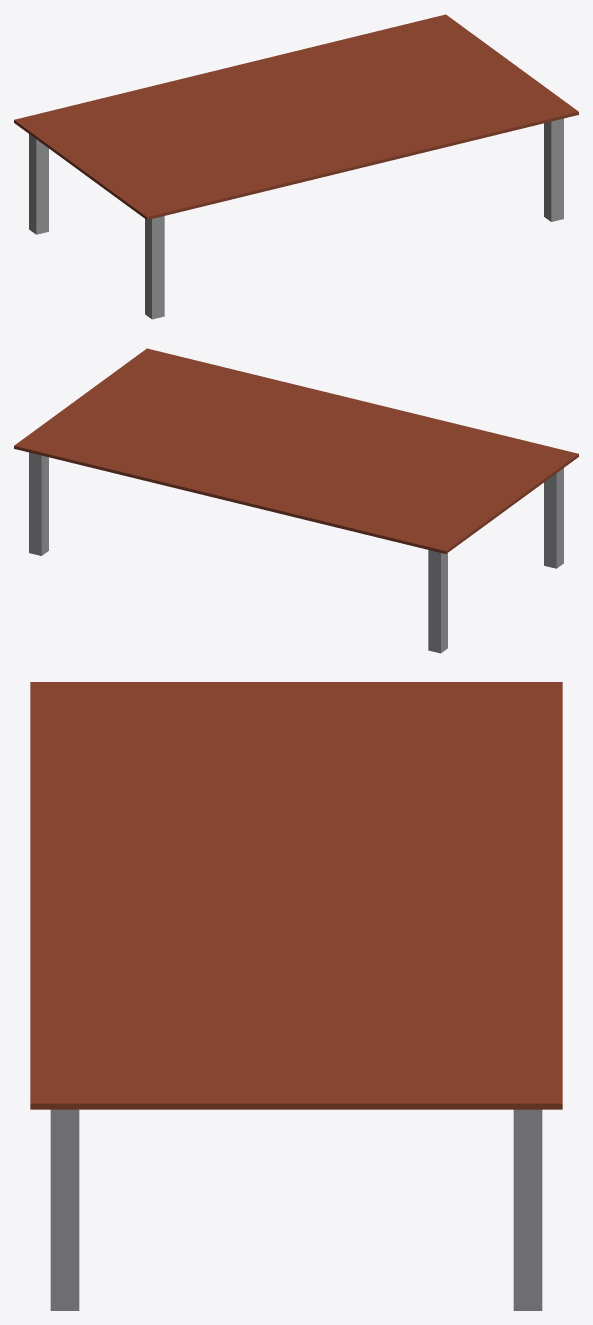
Rendered from room.gltf.
The picture shows the model from 3 angles, top to bottom: view 1: azimuth 30°, elevation 25°; view 2: azimuth 150°, elevation 25°; view 3: azimuth 270°, elevation 25°; orthographic projection. The views are drawn at different scales.
Parts seen in each view (by area): view 1: Desk, Legs; view 2: Desk, Legs; view 3: Desk, Legs.
Part boxes in pixels (x1,y1,x2,y2): Desk: (14, 14, 578, 219); Legs: (29, 118, 563, 319); Desk: (14, 348, 578, 553); Legs: (29, 452, 563, 653); Desk: (30, 682, 562, 1109); Legs: (50, 1109, 542, 1310).
Bounding box in the file's own units: 3 × 0.72 × 1.6.
